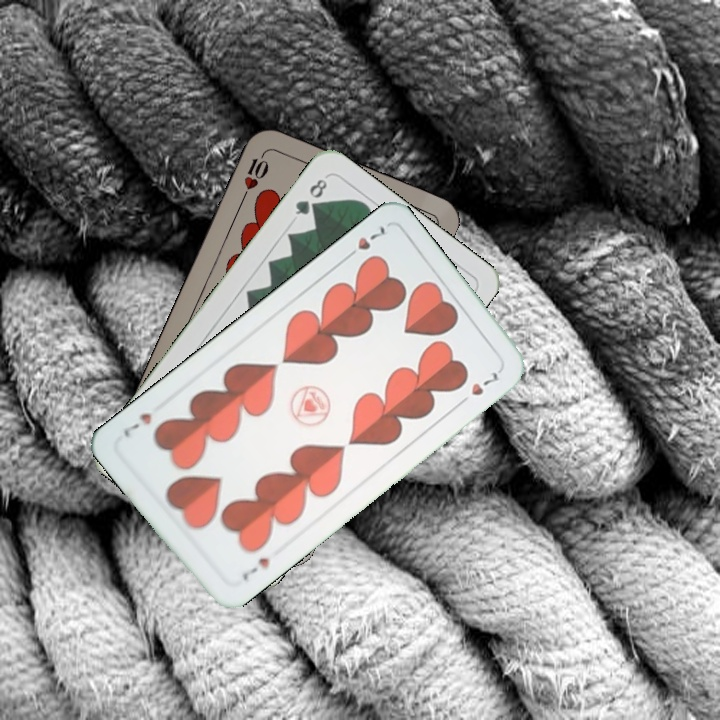G8: (291, 174, 330, 218)
H10: (238, 146, 272, 202)
H7: (340, 221, 390, 264), (237, 553, 272, 583)
